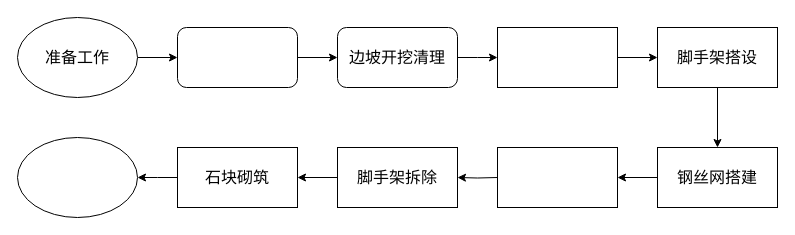
Some shapes in this 795 by 235 pixel diagram are drawn without their labels. Here are the shapes that lost their labels. From the top down, the centre of each, then its label:
At pixel 237 57: "现场勘测".
At pixel 557 57: "工作面平整".
At pixel 77 177: "项目验收".
At pixel 557 177: "钢丝网调整".
